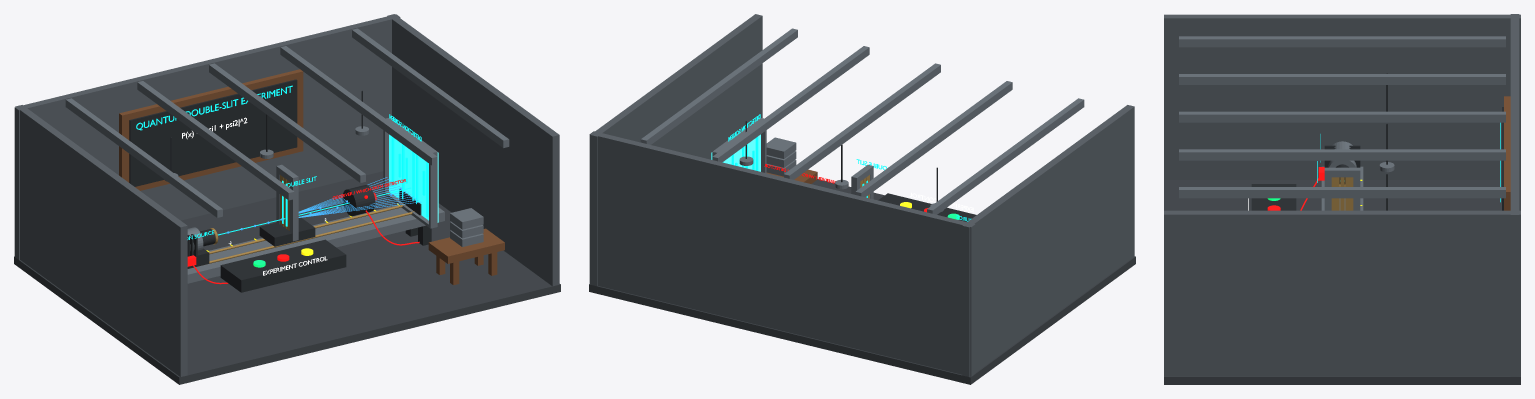
The model's file is YDSE1.glb.
3 renders of one model, left to right at view 1: azimuth 30°, elevation 25°; view 2: azimuth 150°, elevation 25°; view 3: azimuth 270°, elevation 25°, orthographic. The views are drawn at different scales.
Visible parts, largest first — view 1: LAB_Floor, LAB_LeftWall, LAB_BackWall, LAB_RightWall, Chalkboard_Surface, OpticalBench_Top, ControlConsole, Chalkboard_Frame, CeilingBeam_3, CeilingBeam_-3, CeilingBeam_6, CeilingBeam_-6 (+11 smaller); view 2: LAB_BackWall, LAB_LeftWall, LAB_RightWall, LAB_Floor, CeilingBeam_3, CeilingBeam_-6, CeilingBeam_-3, CeilingBeam_6, CeilingBeam_0, ControlConsole, StorageBox_2, Screen_Panel; view 3: LAB_RightWall, LAB_LeftWall, LAB_Floor, CeilingBeam_-6, CeilingBeam_0, CeilingBeam_3, CeilingBeam_6, LAB_BackWall, CeilingBeam_-3, Chalkboard_Frame, ControlConsole, Slit_Frame_Top (+1 smaller).
Part boxes in pixels (x1,y1,x2,y2): LAB_Floor: (14, 171, 560, 384); LAB_LeftWall: (15, 105, 187, 376); LAB_BackWall: (14, 14, 400, 259); LAB_RightWall: (387, 14, 559, 286); Chalkboard_Surface: (129, 79, 297, 186); OpticalBench_Top: (187, 205, 444, 283); ControlConsole: (220, 239, 346, 292); Chalkboard_Frame: (119, 69, 303, 190); CeilingBeam_3: (280, 46, 437, 165); CeilingBeam_-3: (137, 81, 294, 200); CeilingBeam_6: (352, 28, 509, 147); CeilingBeam_-6: (65, 98, 222, 217); LAB_BackWall: (589, 131, 975, 376); LAB_LeftWall: (962, 105, 1134, 376); LAB_RightWall: (590, 14, 762, 286); LAB_Floor: (589, 179, 1135, 384); CeilingBeam_3: (712, 46, 869, 162); CeilingBeam_-6: (927, 98, 1084, 214); CeilingBeam_-3: (855, 81, 1012, 197); CeilingBeam_6: (640, 28, 797, 144); CeilingBeam_0: (784, 63, 940, 179); ControlConsole: (878, 193, 976, 221); StorageBox_2: (766, 137, 796, 158); Screen_Panel: (711, 134, 760, 171); LAB_RightWall: (1164, 210, 1520, 376); LAB_LeftWall: (1164, 14, 1520, 179); LAB_Floor: (1164, 180, 1520, 384); CeilingBeam_-6: (1179, 36, 1505, 47); CeilingBeam_0: (1179, 111, 1505, 122); CeilingBeam_3: (1179, 149, 1505, 160); CeilingBeam_6: (1179, 187, 1505, 198); LAB_BackWall: (1510, 14, 1519, 376); CeilingBeam_-3: (1179, 74, 1505, 84); Chalkboard_Frame: (1504, 96, 1510, 210); ControlConsole: (1251, 184, 1296, 210); Slit_Frame_Top: (1324, 167, 1360, 177).
Bounding box in the file's own units: 16 × 6.35 × 12.
